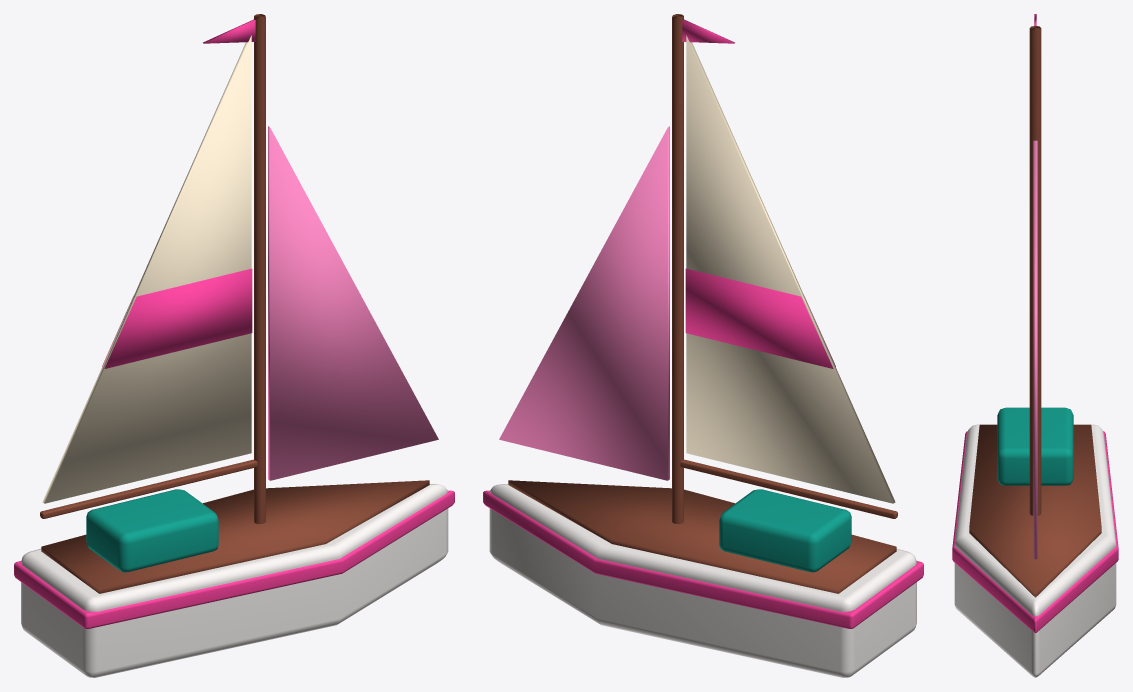
Rendered from sailboat.glb.
3 renders of one model, left to right at view 1: azimuth 30°, elevation 25°; view 2: azimuth 150°, elevation 25°; view 3: azimuth 270°, elevation 25°, orthographic. The views are drawn at different scales.
Visible parts, largest first — view 1: Sailboat; view 2: Sailboat; view 3: Sailboat.
Part boxes in pixels (left/top/right/bottom): Sailboat: left=14, top=14, right=454, bottom=677; Sailboat: left=483, top=14, right=923, bottom=677; Sailboat: left=952, top=14, right=1118, bottom=677.
Size of the model in its own units: 5.39 by 7.35 by 1.96.
